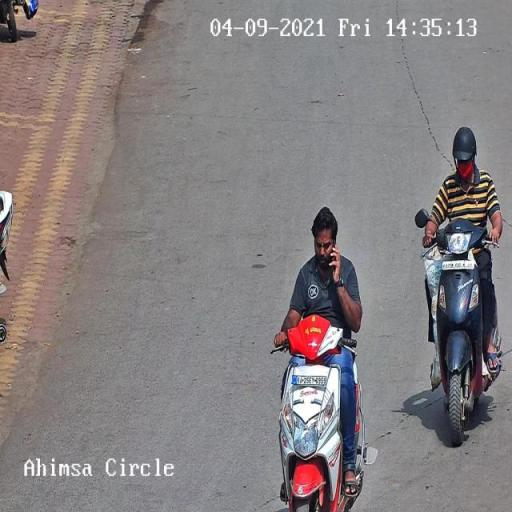using mobile: (329, 234, 342, 281)
